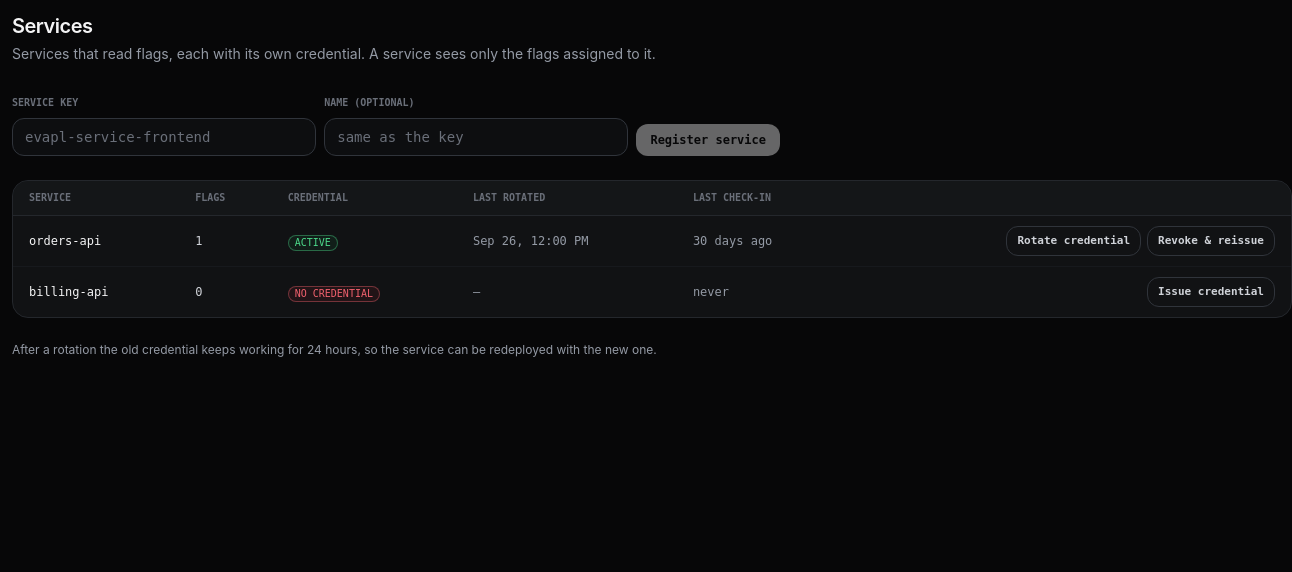
Test case: ServicesPage › shows a new credential once, until the Admin confirms it is stored
The width and height of the screenshot is (1292, 572).
Click the button "Issue credential" at (1211, 292), box [1147, 277, 1275, 307]
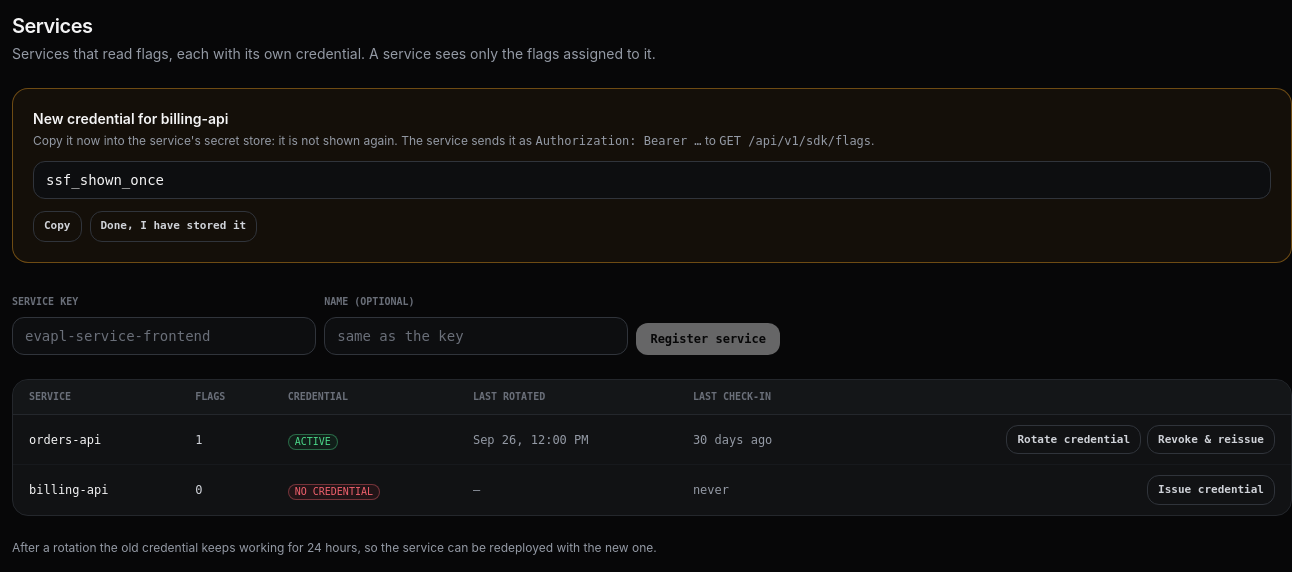
Check: the text "ssf_shown_once" is shown, box [33, 161, 1271, 199]
Click the button "Done, I have stored it" at (173, 226), box [90, 211, 257, 242]
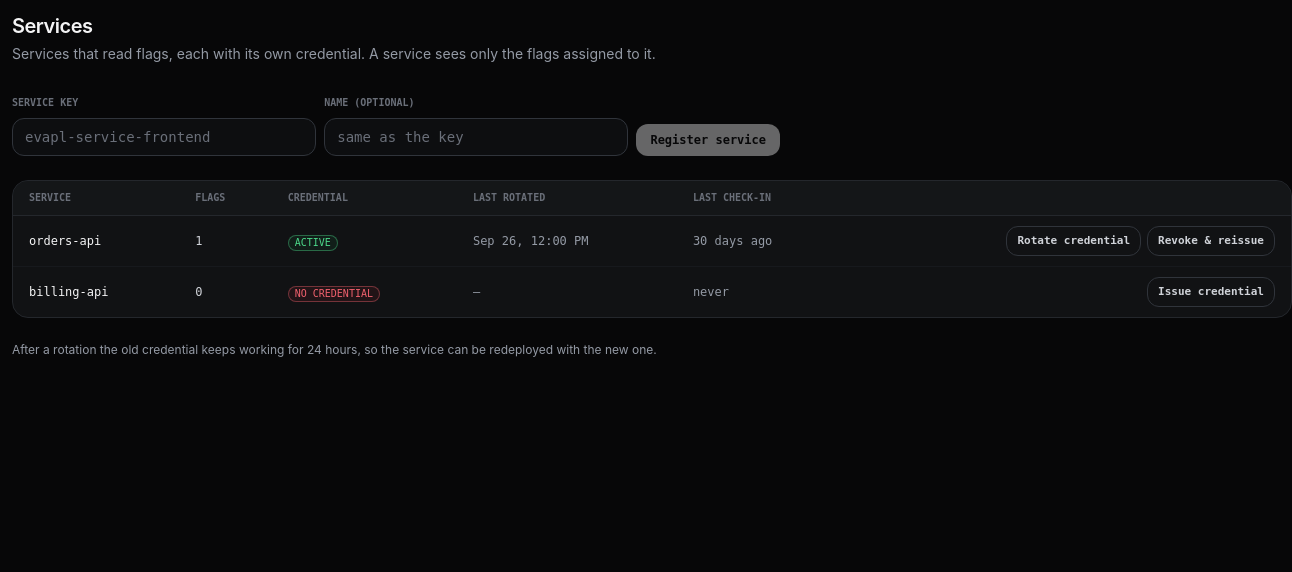
Check: the text "ssf_shown_once" is gone
